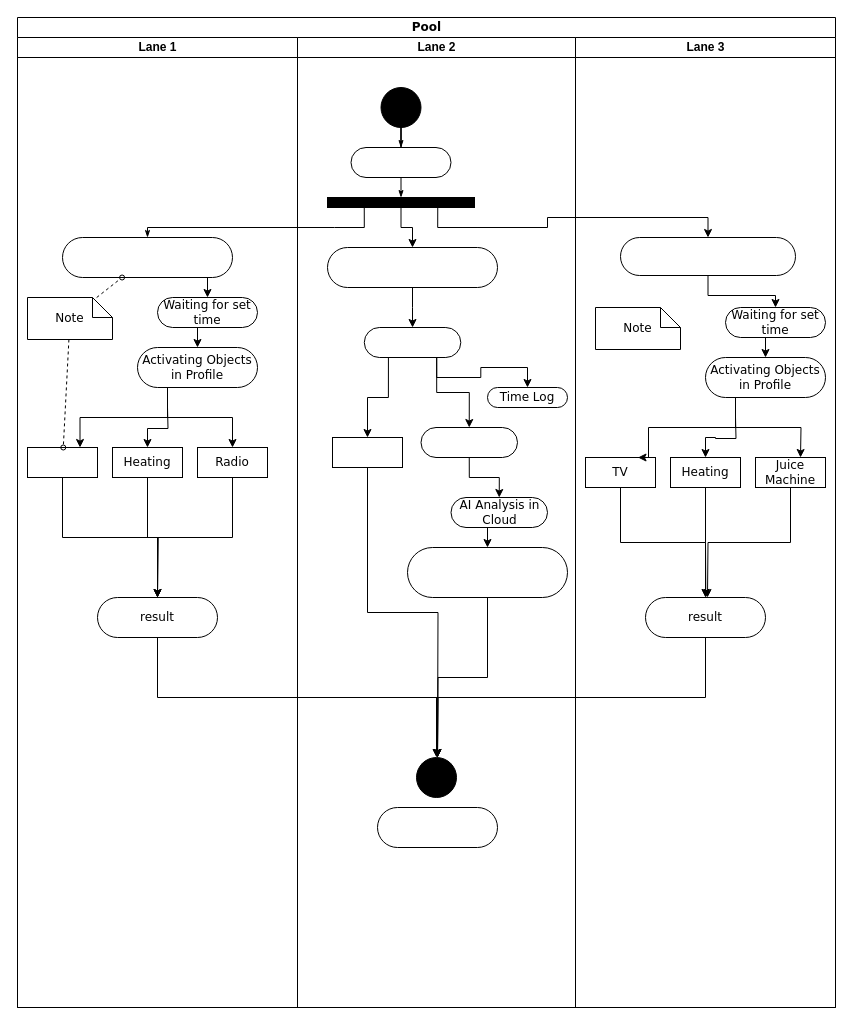
This 853x1025 diagram has some shape labels left out. The shapes that lost their labels are listed below. From the top down, each one's centre as x and y in pixels, then its label:
(400,162): Input
(147,257): Profile Morning Selected
(412,267): Manually controlling Devices by habit
(708,256): Profile Evening Selected
(412,342): Device Action
(62,462): Coffee Machine
(367,452): Device
(469,442): Device Action / Log
(487,572): Profile and Automated Task creation / suggestion
(437,827): User Satisfaction
